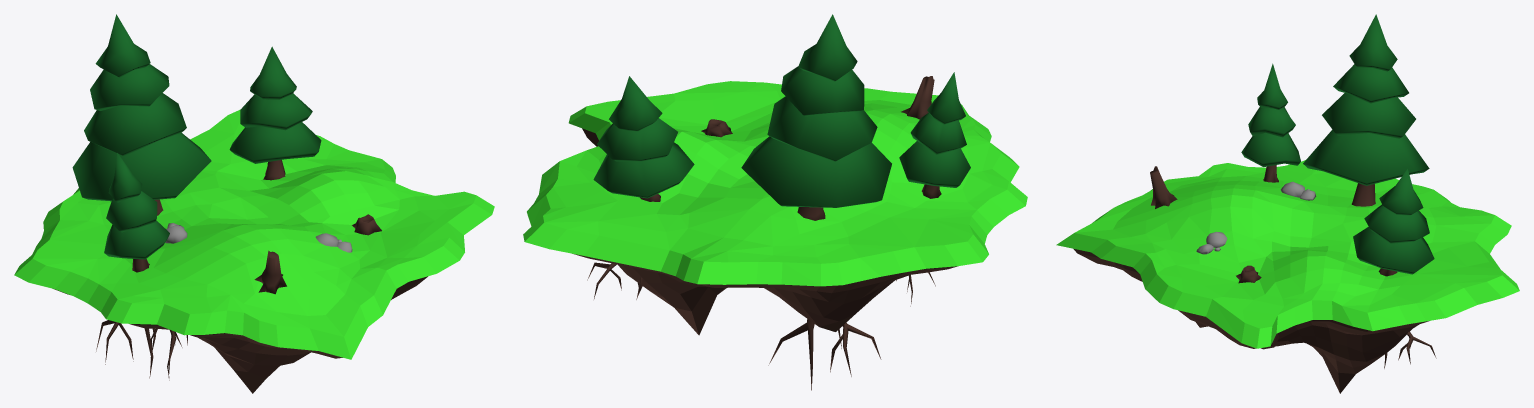
Rendered from isla4.fbx.
3 renders of one model, left to right at view 1: azimuth 30°, elevation 25°; view 2: azimuth 150°, elevation 25°; view 3: azimuth 270°, elevation 25°, orthographic. The views are drawn at different scales.
Parts seen in each view (by area): view 1: Plane.002; view 2: Plane.002; view 3: Plane.002.
Boxes of the visible parts, box(x1,y1,x2,y2) form: Plane.002: box(14, 14, 494, 393); Plane.002: box(523, 14, 1027, 390); Plane.002: box(1056, 14, 1519, 393).
Size of the model in its own units: 5413 by 4385 by 5579.
